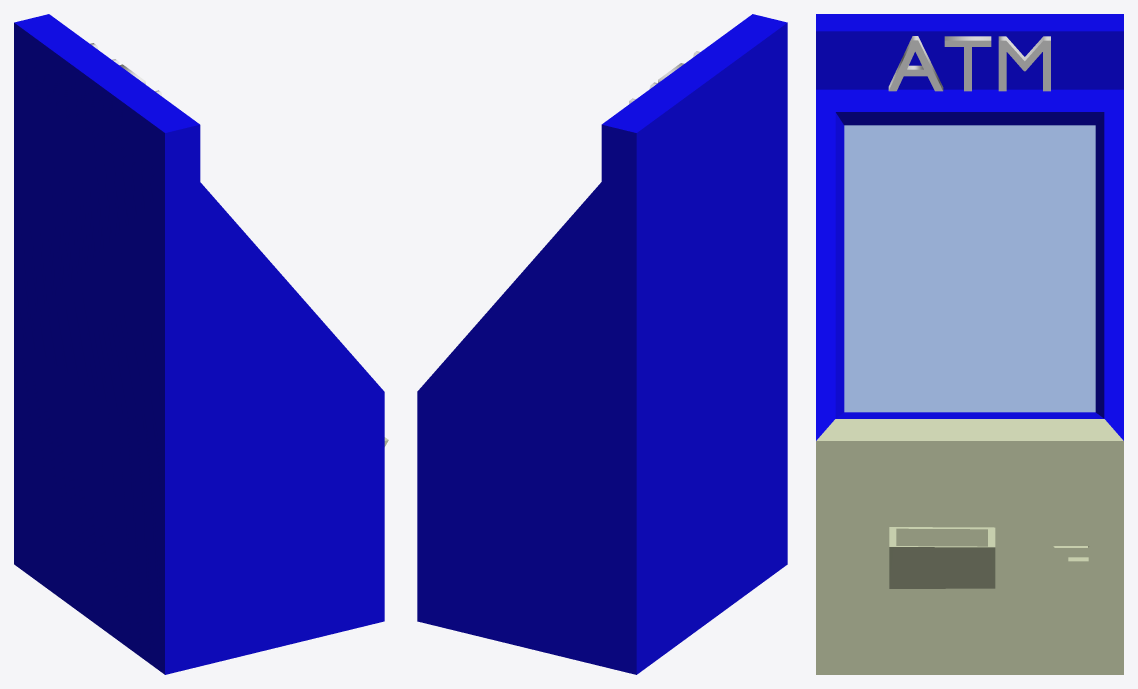
File: ATM3.fbx
3 renders of one model, left to right at view 1: azimuth 30°, elevation 25°; view 2: azimuth 150°, elevation 25°; view 3: azimuth 270°, elevation 25°, orthographic.
Visible parts, largest first — view 1: Cube; view 2: Cube; view 3: Cube, ATM.
Boxes of the visible parts, bbox=[...] form: Cube: bbox=[14, 14, 388, 674]; Cube: bbox=[417, 14, 787, 674]; Cube: bbox=[816, 14, 1123, 674]; ATM: bbox=[888, 36, 1050, 91].
Size of the model in its own units: 237 by 472 by 239.
